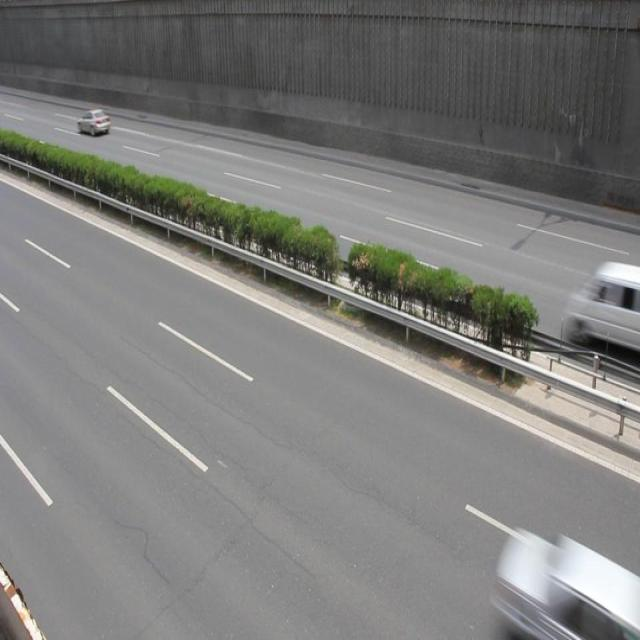car: (79, 107, 110, 136)
truck: (567, 270, 640, 352)
